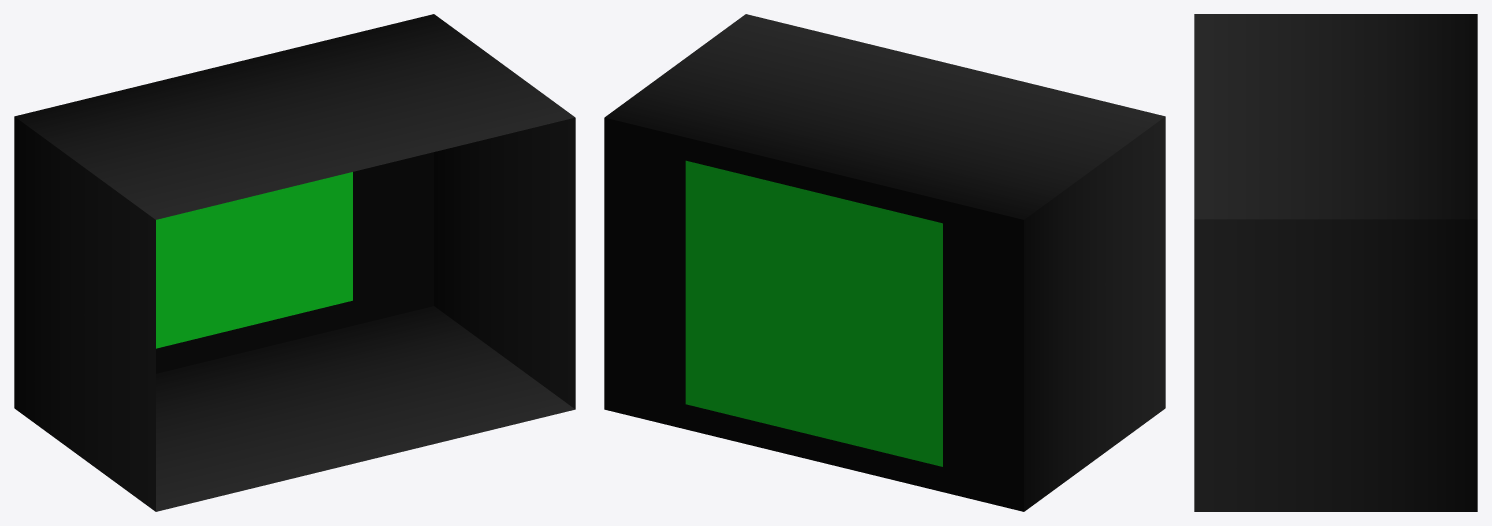
File: DOT.glb
3 views of the same model, side by side, from view 1: azimuth 30°, elevation 25°; view 2: azimuth 150°, elevation 25°; view 3: azimuth 270°, elevation 25° (orthographic).
Parts seen in each view (by area): view 1: dot; view 2: dot; view 3: dot.
Part boxes in pixels (bbox=[...]): dot: bbox=[14, 14, 575, 511]; dot: bbox=[604, 14, 1165, 511]; dot: bbox=[1194, 14, 1477, 511].
Size of the model in its own units: 3.43 by 2.28 by 2.
